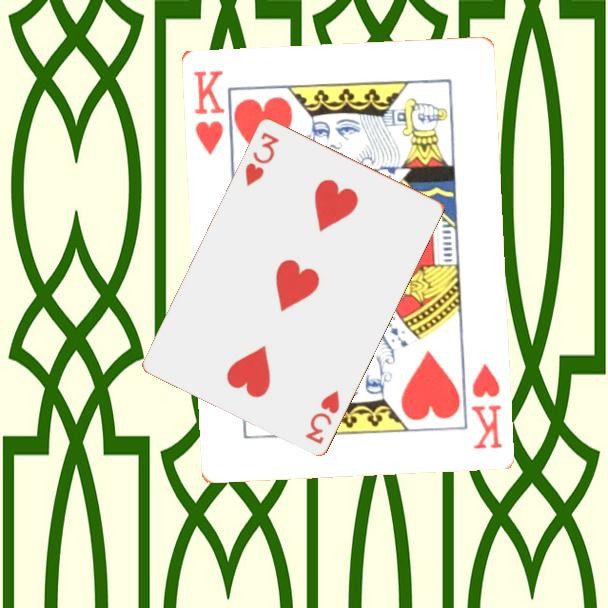h03: (241, 128, 282, 189), (301, 386, 342, 447)
h13: (467, 359, 505, 452), (189, 66, 227, 157)
